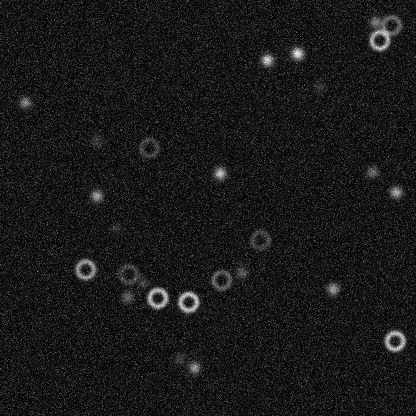Ring: (367, 28, 391, 52), (209, 267, 233, 291), (176, 289, 200, 313), (73, 257, 97, 281), (137, 135, 161, 159), (379, 13, 403, 37), (145, 285, 169, 309), (382, 328, 406, 352), (116, 261, 140, 285), (248, 227, 272, 251)
Spot: (258, 51, 274, 67), (233, 264, 249, 280), (88, 132, 104, 148), (289, 45, 305, 61), (324, 280, 340, 296), (171, 350, 187, 366), (107, 220, 123, 236), (364, 163, 380, 179), (211, 165, 227, 181), (134, 274, 150, 290), (88, 187, 104, 203), (16, 94, 32, 110), (119, 289, 135, 305), (387, 184, 403, 200), (186, 359, 202, 375), (312, 79, 328, 95), (367, 14, 383, 30)
